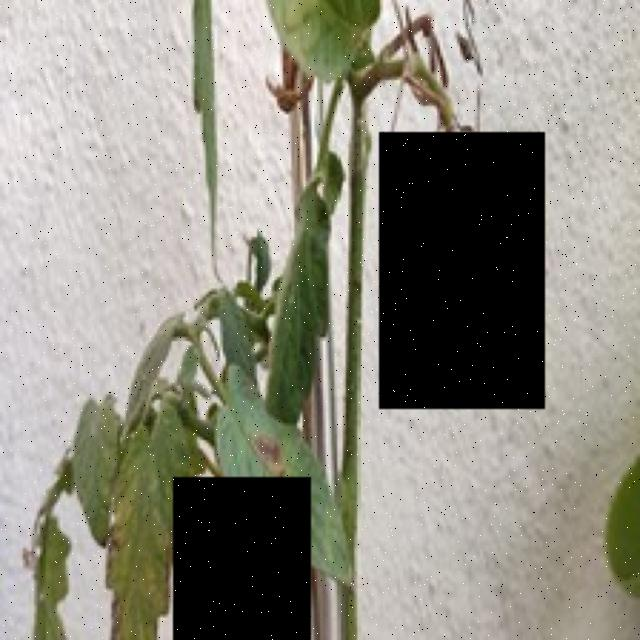Tree_Tomato: (380, 133, 546, 410), (173, 477, 311, 640)
